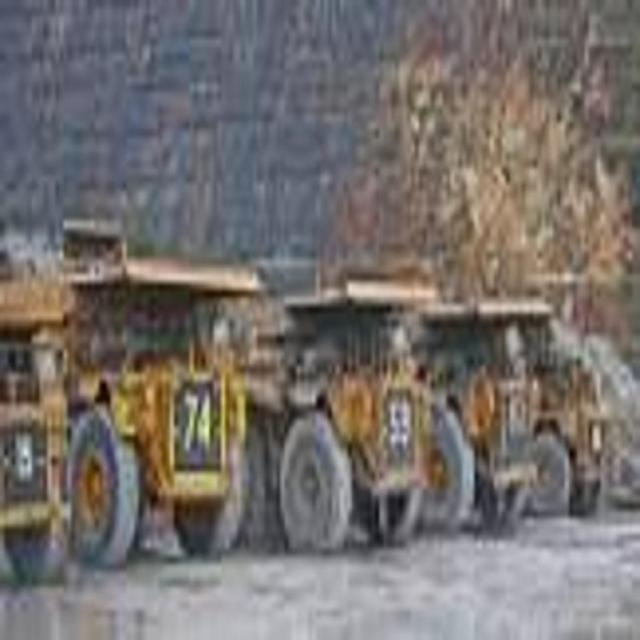dump_truck: (73, 222, 267, 563), (266, 272, 436, 582), (458, 272, 599, 557), (0, 249, 61, 618)
